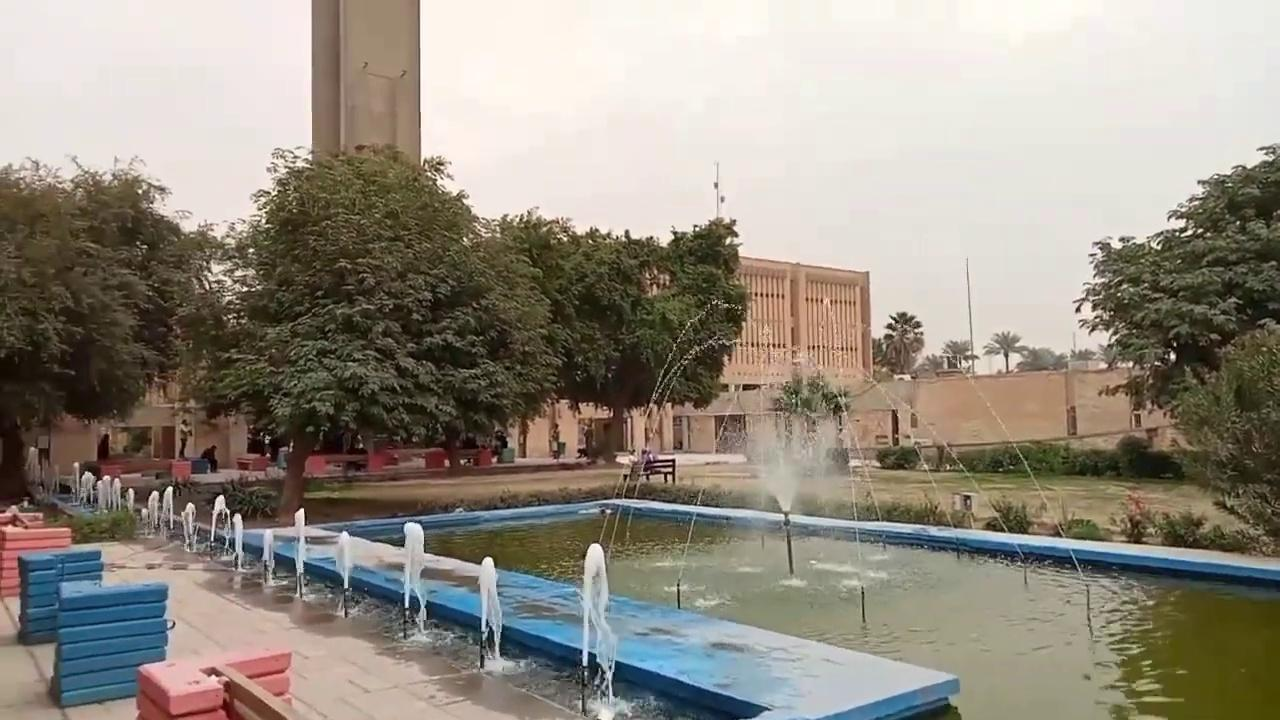fountain: (13, 460, 1277, 717), (202, 509, 962, 718), (574, 541, 618, 717), (474, 554, 518, 674), (396, 519, 430, 640)
person: (177, 418, 193, 459), (200, 444, 218, 472), (640, 447, 655, 479), (493, 429, 507, 462), (575, 424, 588, 459), (97, 430, 110, 460), (550, 422, 560, 459)
tree: (178, 140, 558, 523), (0, 151, 217, 504), (1072, 140, 1279, 426), (557, 212, 747, 462), (1168, 318, 1279, 545), (770, 364, 852, 469), (1097, 365, 1155, 428), (876, 310, 924, 375), (982, 329, 1026, 372), (1018, 345, 1066, 371), (940, 338, 976, 371)
